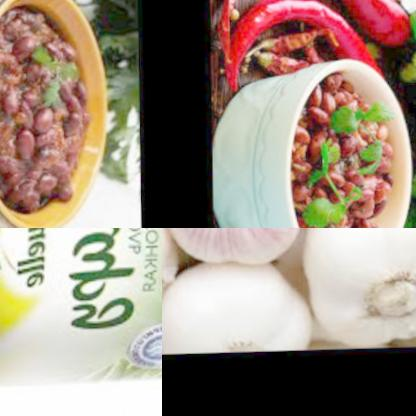fasol: (0, 1, 106, 224), (285, 75, 403, 228), (94, 330, 162, 406)
garlic: (162, 249, 316, 354), (300, 228, 416, 349), (162, 228, 317, 266), (382, 0, 416, 20)
hot pepper: (213, 0, 376, 82), (309, 0, 411, 51), (217, 0, 267, 67), (252, 25, 340, 57), (256, 55, 311, 77)
